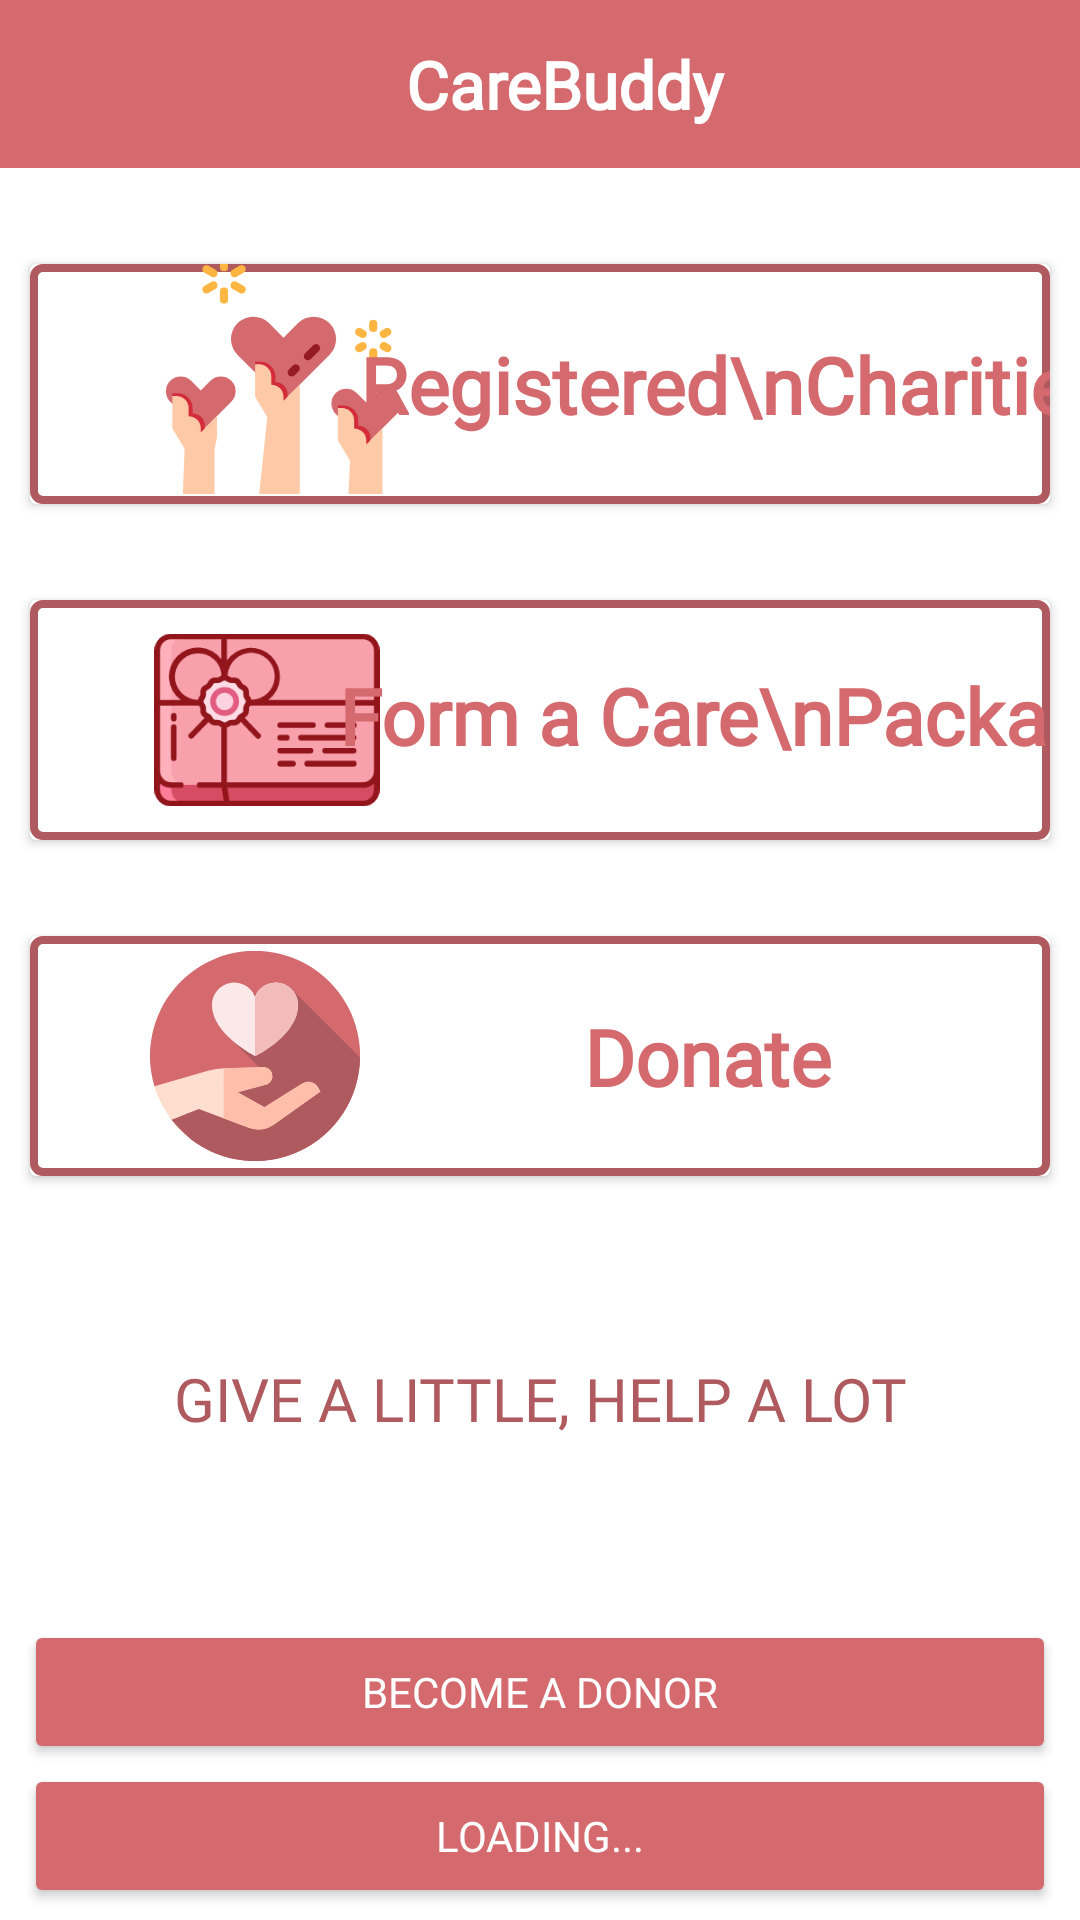

Named icons in this screenshot (1080px x 1920px) and their centers, (x=x, y=y):
love: (x=255, y=1056)
